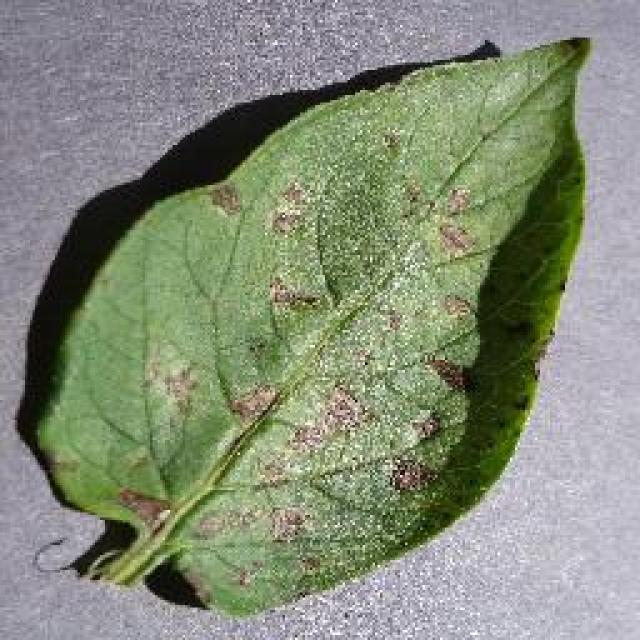Potato: (25, 32, 593, 618)
